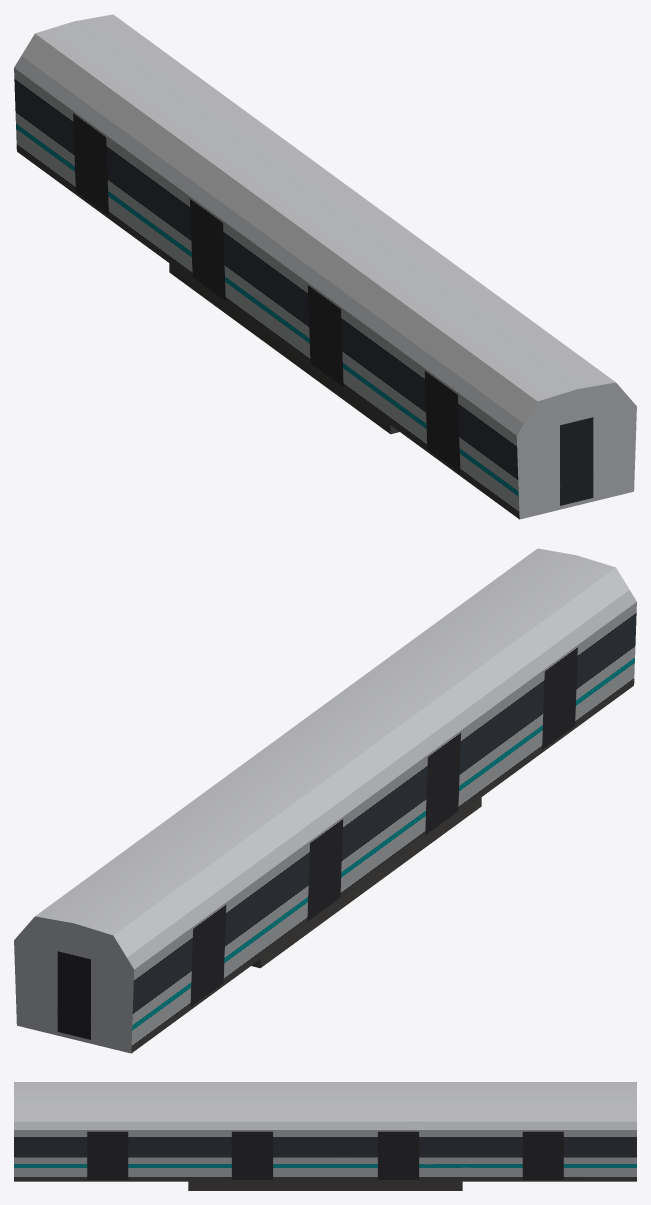
Rendered from metro_car_lod2.glb.
3 renders of one model, top to bottom at view 1: azimuth 30°, elevation 25°; view 2: azimuth 150°, elevation 25°; view 3: azimuth 270°, elevation 25°, orthographic. The views are drawn at different scales.
Visible parts, largest first — view 1: body; view 2: body; view 3: body.
Part boxes in pixels (x1,y1,x2,y2): body: [14, 14, 636, 519]; body: [14, 548, 636, 1053]; body: [14, 1082, 636, 1190].
Size of the model in its own units: 2.9 by 3.16 by 21.
2 materials, 2 textured.
